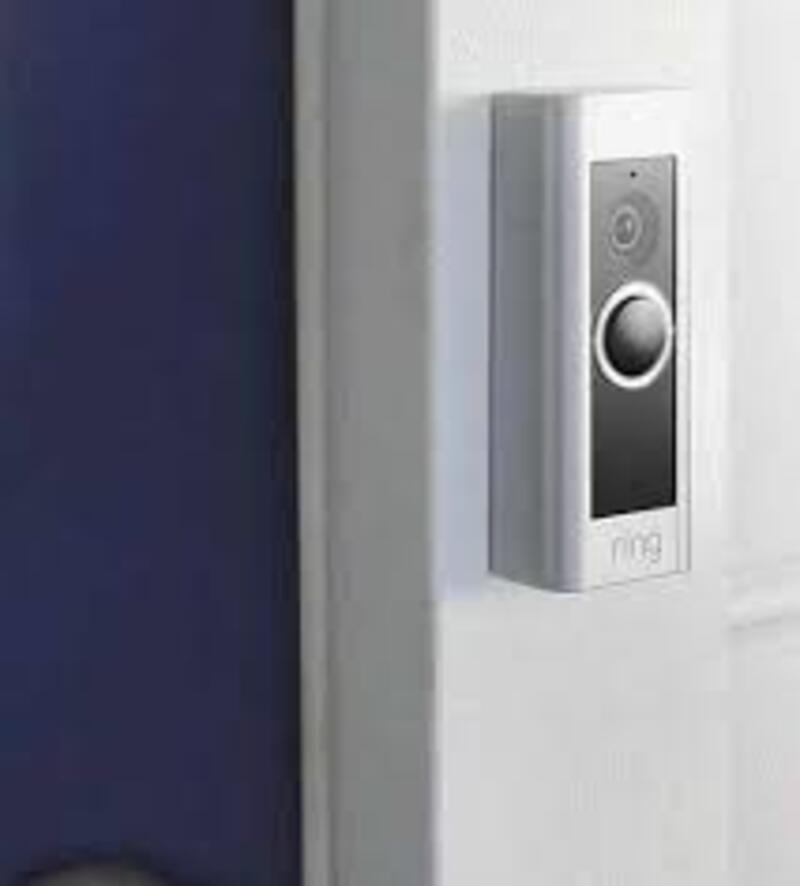doorbell: (480, 75, 706, 596)
